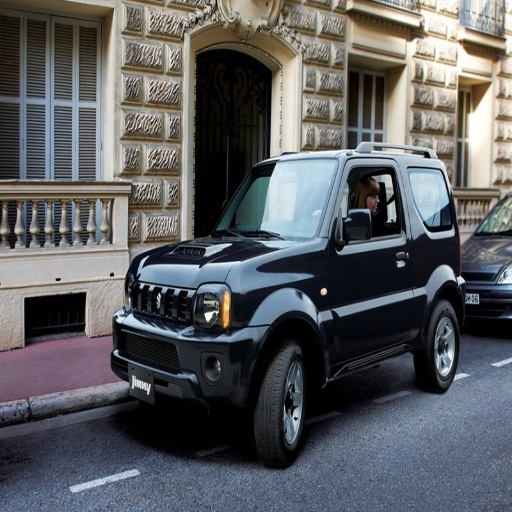front_bumper: (115, 279, 256, 400)
front_glass: (215, 160, 337, 239)
front_left_door: (334, 164, 396, 369)
